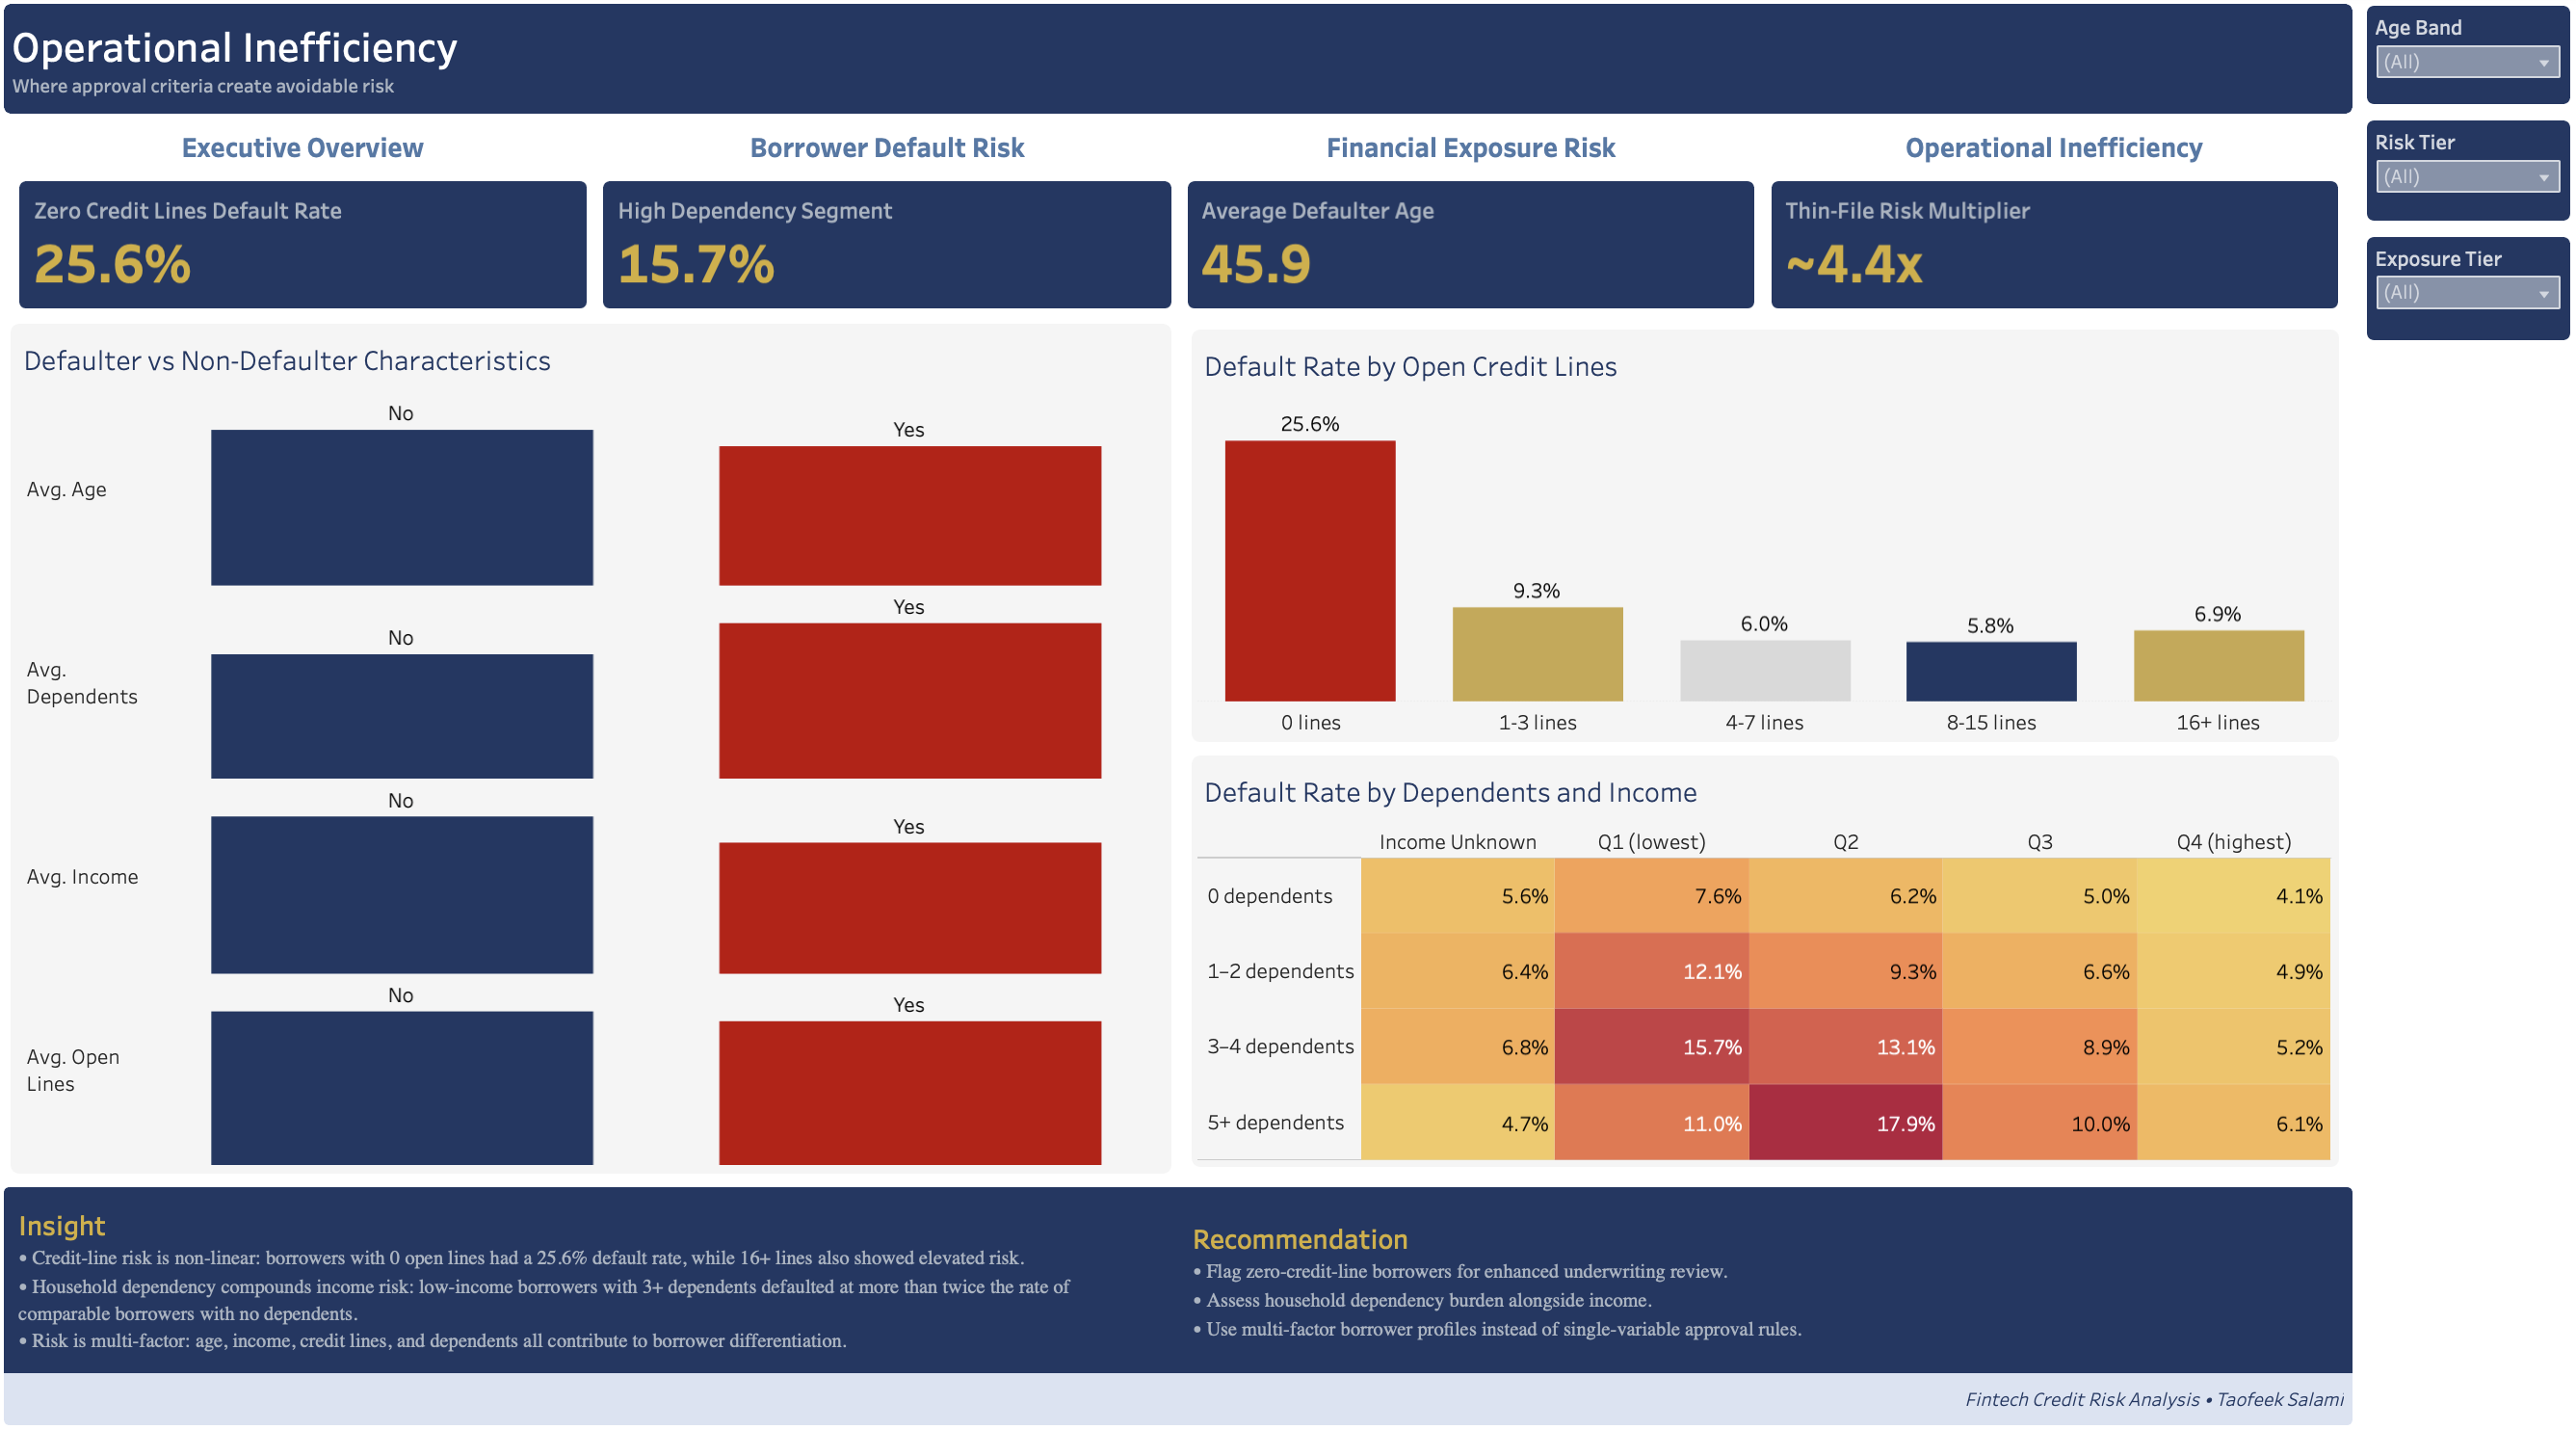

This screenshot's page, from the dashboard's own definition file:
{"tool":"tableau","page":{"name":"DB04 - Operational Inefficiency","canvas":[1600,900],"ordinal":3},"visuals":[{"type":"filter","title":"13 - KPI - Zero Credit Line Default Rate","param":"[federated.0l6wklt0usoimd1as64wt0mplcod].[none:age_band:nk]","box":[1454,12,134,70]},{"type":"text","box":[16,16,1434,67]},{"type":"filter","title":"13 - KPI - Zero Credit Line Default Rate","param":"[federated.0l6wklt0usoimd1as64wt0mplcod].[none:risk_tier:nk]","box":[1454,82,134,71]},{"type":"dashboard-object","box":[20,87,357,32]},{"type":"dashboard-object","box":[377,87,357,32]},{"type":"dashboard-object","box":[734,87,356,32]},{"type":"dashboard-object","box":[1090,87,356,32]},{"type":"worksheet","title":"13 - KPI - Zero Credit Line Default Rate","mark":"Automatic","box":[20,119,357,88]},{"type":"worksheet","title":"14 - KPI - High Dependency Segment","mark":"Automatic","box":[377,119,357,88]},{"type":"worksheet","title":"15 - KPI - Average Default Age","mark":"Automatic","box":[734,119,356,88]},{"type":"worksheet","title":"16 - KPI - Thin-File Risk Multiplier","mark":"Automatic","box":[1090,119,356,88]},{"type":"filter","title":"13 - KPI - Zero Credit Line Default Rate","param":"[federated.0l6wklt0usoimd1as64wt0mplcod].[none:exposure_tier:nk]","box":[1454,153,134,73]},{"type":"worksheet","title":"33 - Chart - Characteristics of Delinquency","mark":"Bar","cols":["SeriousDlqin2yrs"],"box":[16,207,717,527]},{"type":"worksheet","title":"32 - Chart - Credit Lines vs Delinquency Rate","mark":"Bar","rows":["delinquency_rate_pct"],"cols":["credit_lines_band"],"box":[737,211,709,260]},{"type":"worksheet","title":"31 - Chart - Dependents vs Income Default Rate","mark":"Square","rows":["dependents_band"],"cols":["income_quartile"],"box":[737,471,709,259]},{"type":"text","box":[16,738,717,114]},{"type":"text","box":[733,738,717,114]},{"type":"text","box":[16,852,1434,32]}]}

Visuals, with their boxes in screenshot pixels (x1, y1, x2, y2), scaled from the page's 1600x900 canvas onto the 2576x1430 screenshot:
"13 - KPI - Zero Credit Line Default Rate" filter: x1=2341, y1=19, x2=2557, y2=130
text: x1=26, y1=25, x2=2334, y2=132
"13 - KPI - Zero Credit Line Default Rate" filter: x1=2341, y1=130, x2=2557, y2=243
dashboard-object: x1=32, y1=138, x2=607, y2=189
dashboard-object: x1=607, y1=138, x2=1182, y2=189
dashboard-object: x1=1182, y1=138, x2=1755, y2=189
dashboard-object: x1=1755, y1=138, x2=2328, y2=189
"13 - KPI - Zero Credit Line Default Rate" worksheet: x1=32, y1=189, x2=607, y2=329
"14 - KPI - High Dependency Segment" worksheet: x1=607, y1=189, x2=1182, y2=329
"15 - KPI - Average Default Age" worksheet: x1=1182, y1=189, x2=1755, y2=329
"16 - KPI - Thin-File Risk Multiplier" worksheet: x1=1755, y1=189, x2=2328, y2=329
"13 - KPI - Zero Credit Line Default Rate" filter: x1=2341, y1=243, x2=2557, y2=359
"33 - Chart - Characteristics of Delinquency" worksheet (Bar marks): x1=26, y1=329, x2=1180, y2=1166
"32 - Chart - Credit Lines vs Delinquency Rate" worksheet (Bar marks): x1=1187, y1=335, x2=2328, y2=749
"31 - Chart - Dependents vs Income Default Rate" worksheet (Square marks): x1=1187, y1=749, x2=2328, y2=1160
text: x1=26, y1=1173, x2=1180, y2=1354
text: x1=1180, y1=1173, x2=2334, y2=1354
text: x1=26, y1=1354, x2=2334, y2=1405
